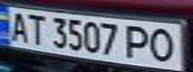0: (81, 19, 103, 54)
3: (45, 15, 69, 49)
5: (63, 17, 84, 52)
7: (100, 20, 124, 56)
A: (3, 8, 30, 43)
O: (145, 26, 184, 63)
P: (121, 22, 154, 60)
T: (24, 11, 48, 46)
